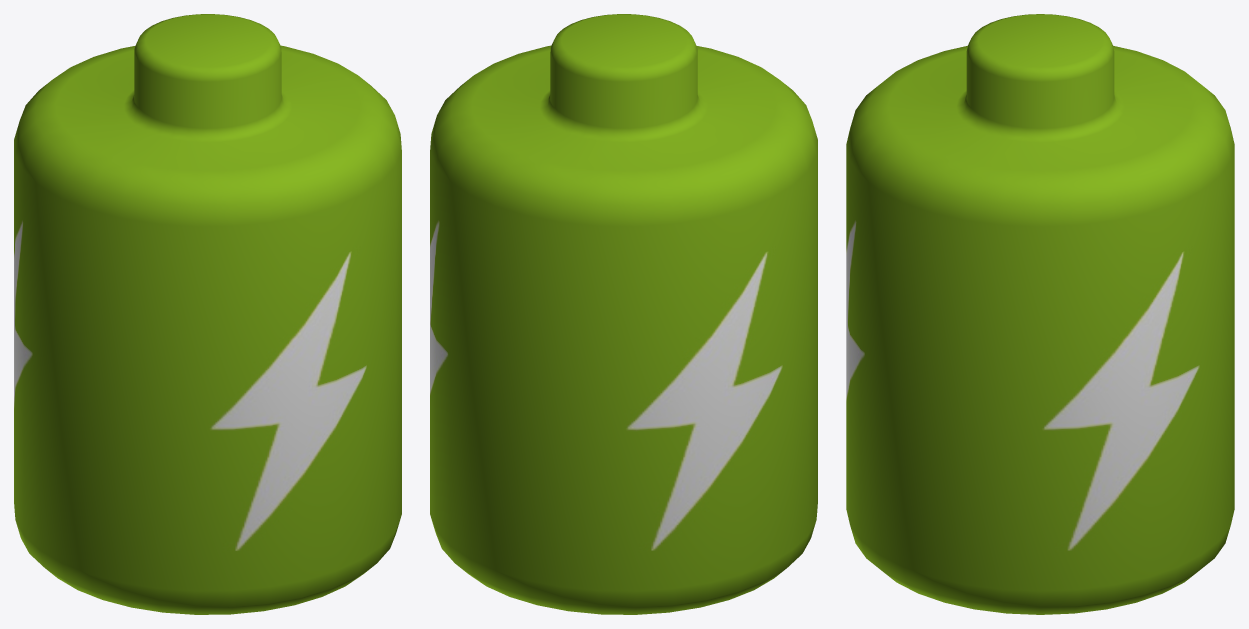
Rendered from battery.obj.
3 renders of one model, left to right at view 1: azimuth 30°, elevation 25°; view 2: azimuth 150°, elevation 25°; view 3: azimuth 270°, elevation 25°, orthographic.
Visible parts, largest first — view 1: Battery; view 2: Battery; view 3: Battery.
Part boxes in pixels (<box>): Battery: <box>14,14,401,614</box>; Battery: <box>430,14,817,614</box>; Battery: <box>846,14,1234,614</box>.
Size of the model in its own units: 0.08 by 0.115 by 0.08.
Materials: 1 (1 with a texture image).
